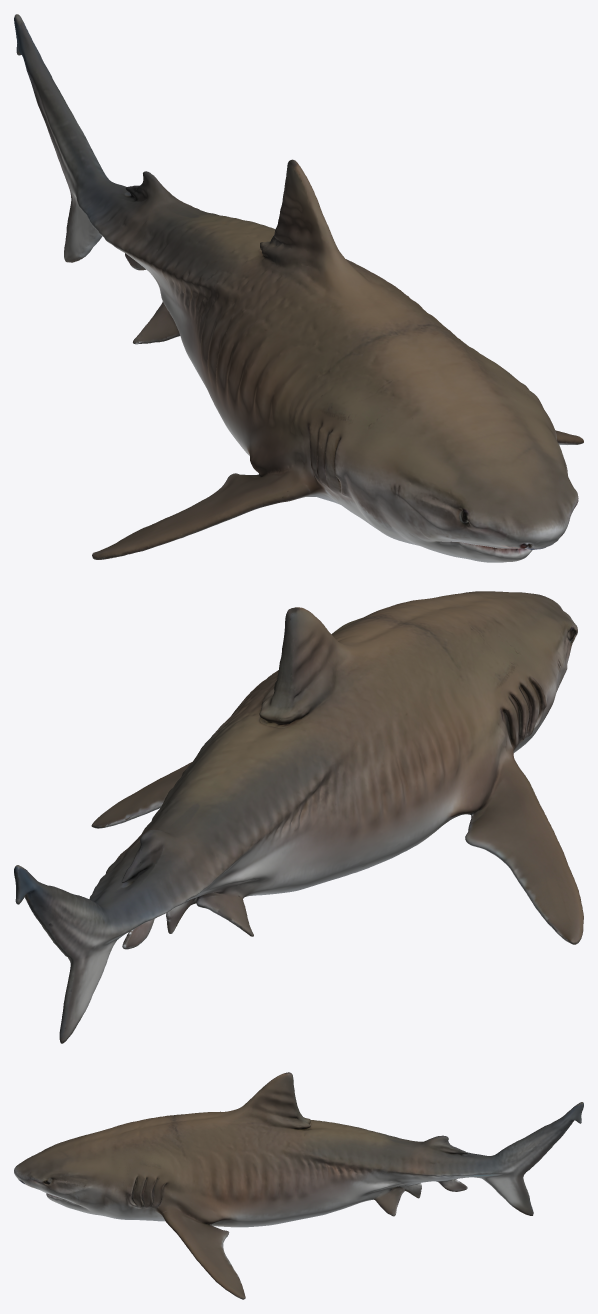
3 renders of one model, top to bottom at view 1: azimuth 30°, elevation 25°; view 2: azimuth 150°, elevation 25°; view 3: azimuth 270°, elevation 25°, orthographic. The views are drawn at different scales.
Visible parts, largest first — view 1: Object_4, Object_5; view 2: Object_4, Object_5; view 3: Object_4, Object_5.
Part boxes in pixels (left/top/right/bottom): Object_4: left=18, top=37, right=578, bottom=562; Object_5: left=14, top=14, right=583, bottom=559; Object_4: left=15, top=591, right=582, bottom=1043; Object_5: left=14, top=593, right=583, bottom=1039; Object_4: left=14, top=1072, right=581, bottom=1280; Object_5: left=81, top=1089, right=583, bottom=1299.
Bounding box in the file's own units: 0.997 × 0.6054 × 1.9.
1 material, 1 textured.
